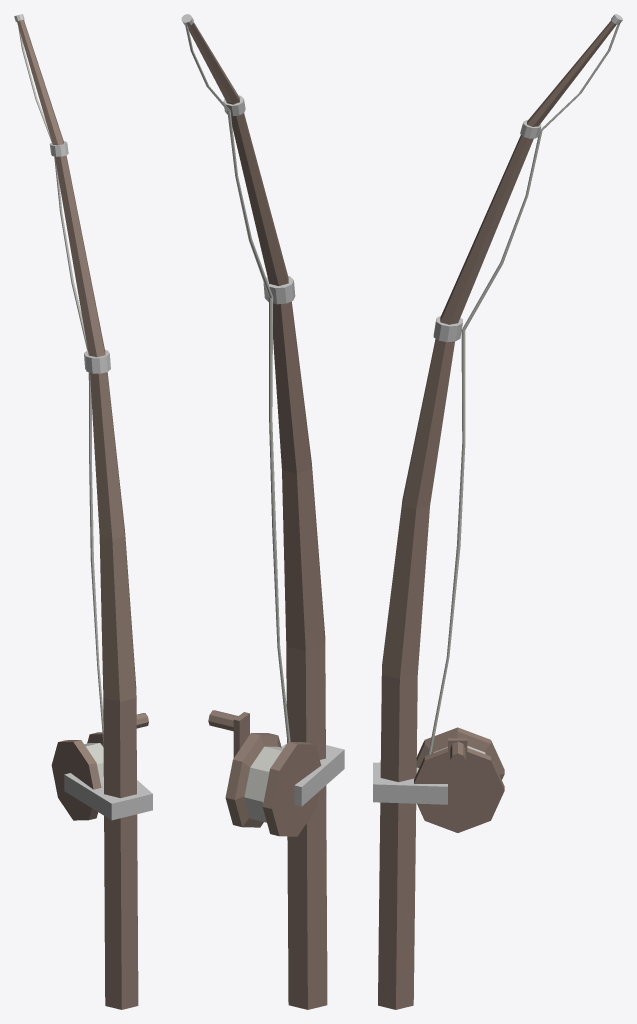
File: VaraDePescar.fbx
3 views of the same model, side by side, from view 1: azimuth 30°, elevation 25°; view 2: azimuth 150°, elevation 25°; view 3: azimuth 270°, elevation 25° (orthographic). The views are drawn at different scales.
Visible parts, largest first — view 1: pCylinder20, pCylinder21, pCylinder27, pCube38, pCylinder23, pCylinder26; view 2: pCylinder20, pCylinder21, pCylinder27, pCylinder26, pCube38, pCylinder23, pCube39, pCylinder22; view 3: pCylinder20, pCylinder21, pCylinder27, pCube38, pCube39.
Part boxes in pixels (x1,y1,x2,y2): pCylinder20: (17,20,138,1009); pCylinder21: (51,732,103,820); pCylinder27: (18,27,103,745); pCube38: (64,773,152,820); pCylinder23: (84,350,110,373); pCylinder26: (84,743,103,782); pCylinder20: (188,22,327,1009); pCylinder21: (225,733,321,836); pCylinder27: (185,24,290,742); pCylinder26: (244,746,283,822); pCube38: (281,743,344,806); pCylinder23: (263,276,295,304); pCube39: (233,712,249,757); pCylinder22: (208,710,237,731); pCylinder20: (378,20,616,1009); pCylinder21: (414,727,504,832); pCylinder27: (428,23,620,754); pCube38: (373,762,447,804); pCube39: (448,738,467,808).
Bounding box in the file's own units: 0.1573 × 1.75 × 0.4007.
